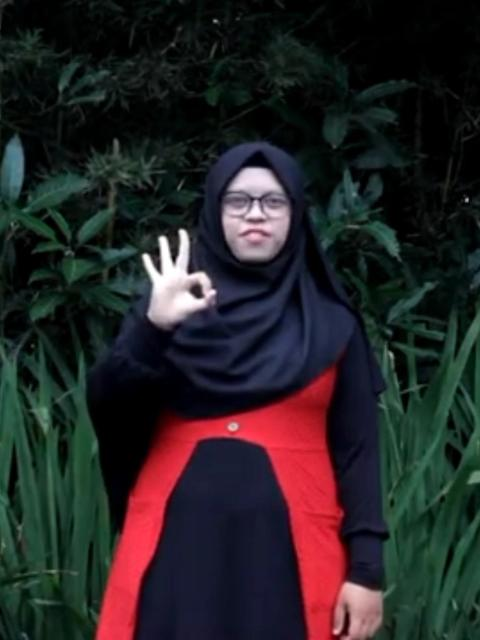F: (137, 226, 220, 328)
